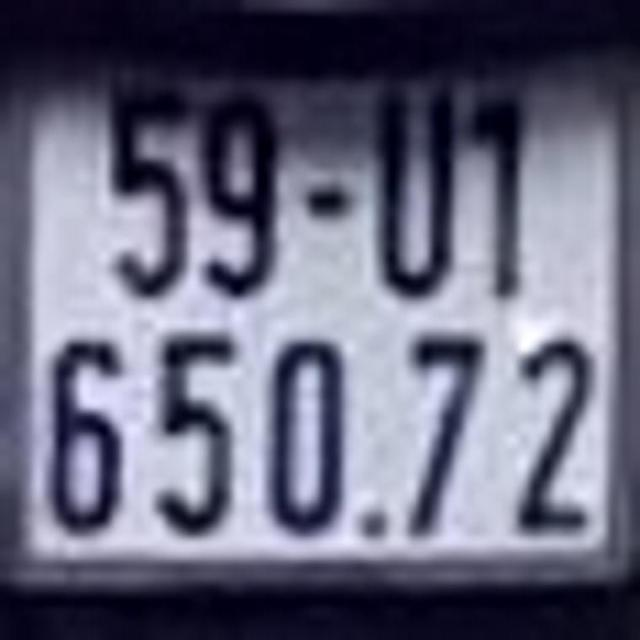0: (274, 340, 346, 530)
1: (477, 104, 522, 298)
2: (516, 330, 592, 536)
5: (113, 88, 185, 290), (165, 327, 229, 531)
6: (53, 334, 123, 536)
7: (395, 332, 485, 540)
9: (205, 96, 270, 298)
U: (384, 92, 452, 292)
